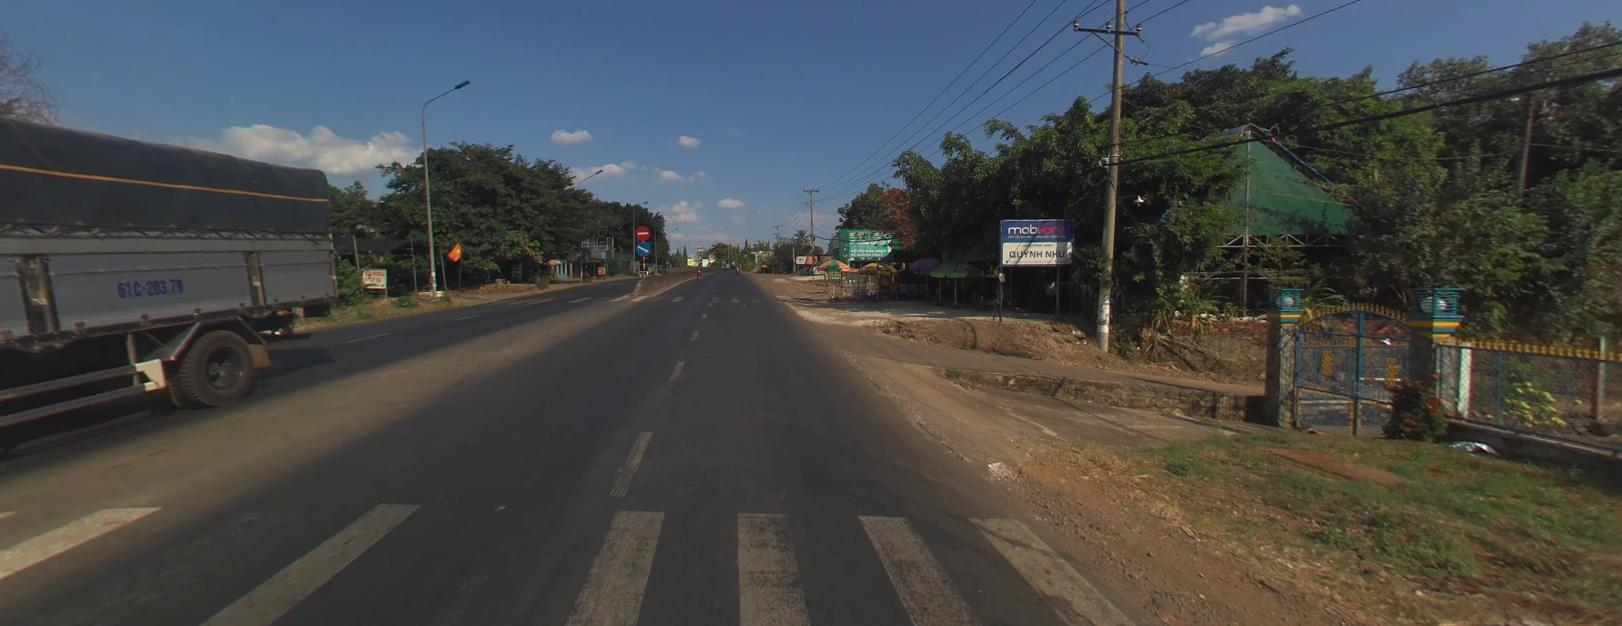Cam nguoc chieu: (635, 223, 649, 238)
Hieu lenh: (635, 240, 650, 254)
